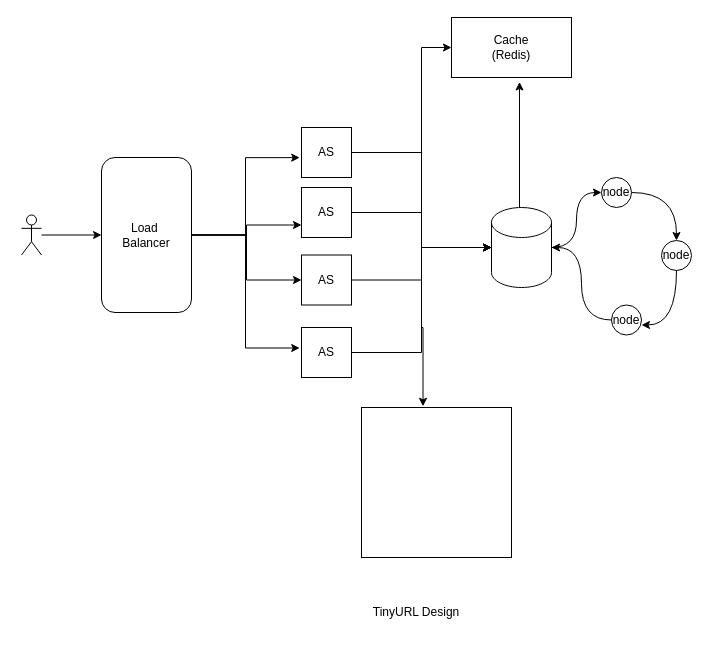
This 709x645 diagram has some shape labels left out. The shapes that lost their labels are listed below. From the top down, each one's centre as x and y in pixels, then its label:
At (x=31, y=234): "Actor".
At (x=521, y=247): "NoSQL".
At (x=436, y=482): "(Ranges) 0 - 1M 1M- 2M 2M - 3M".
